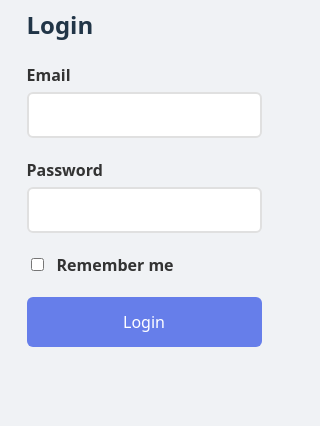
Test: LoginForm Component › should show validation error for short password
Type "short" into the password field with test id "password-input" at (144, 210), box [26,187,262,233]
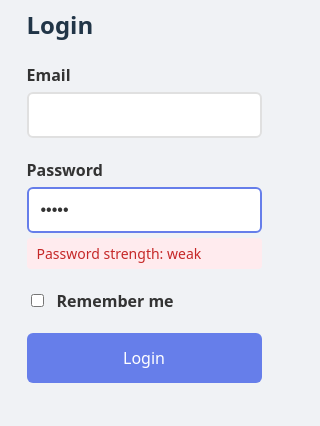
Leave the password field with test id "password-input", box [26,187,262,233]
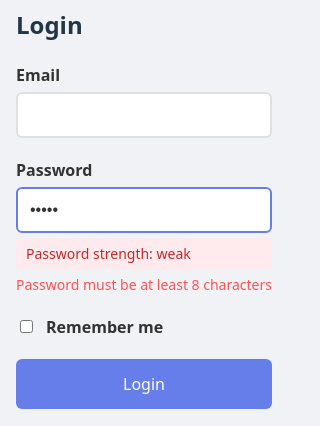
Now the text with test id "password-error" reads "Password must be at least 8 characters", box [16,275,272,294]
